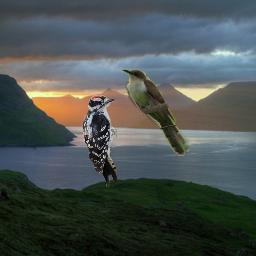Cuckoo: (121, 67, 189, 156)
Woodpecker: (81, 95, 117, 187)
